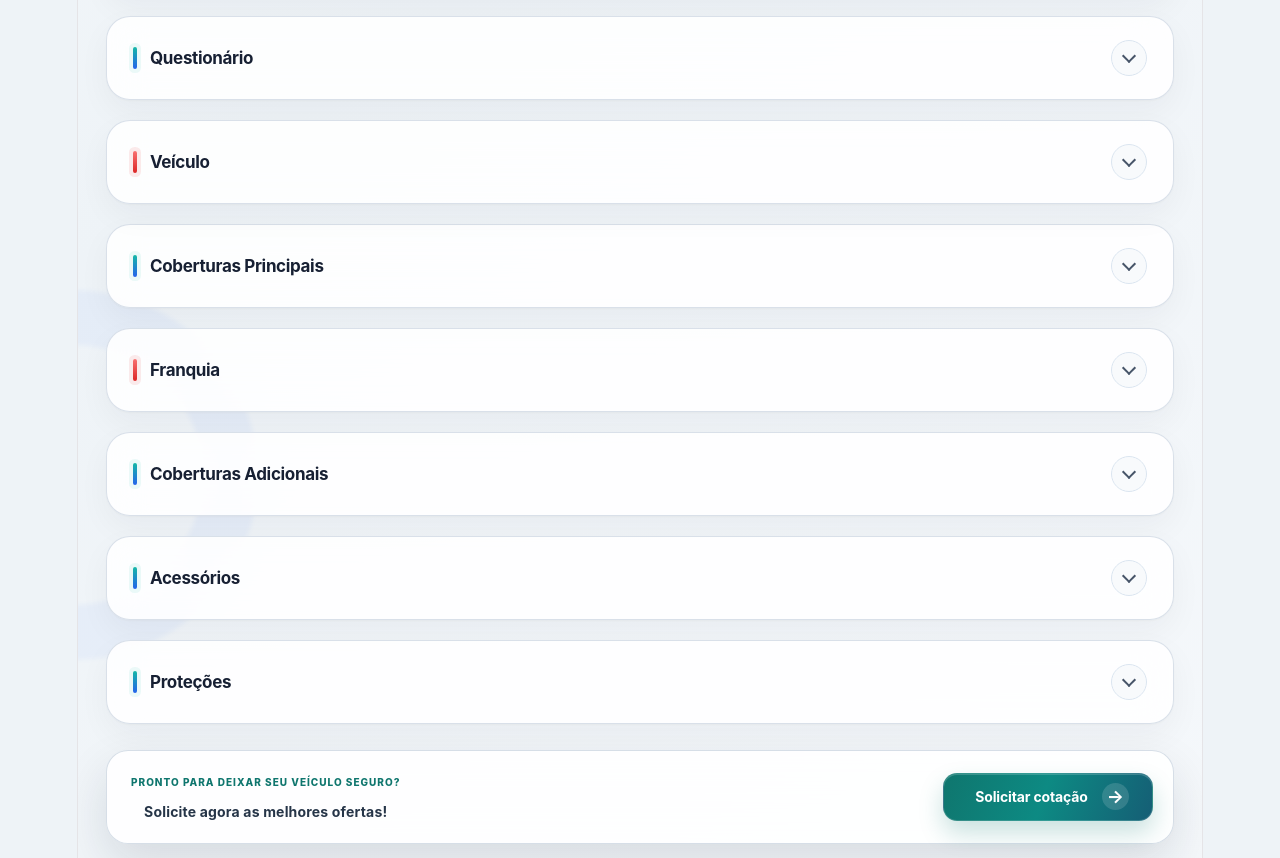
Scenario: NovaCotacao › validates required fields before navigating to the result
(page scrolled)
What coordinates should you click on to do the following:
click the button "Solicitar cotação →"
I would click on:
 (1048, 797)
Its box is [943,773,1153,821].
(page scrolled)
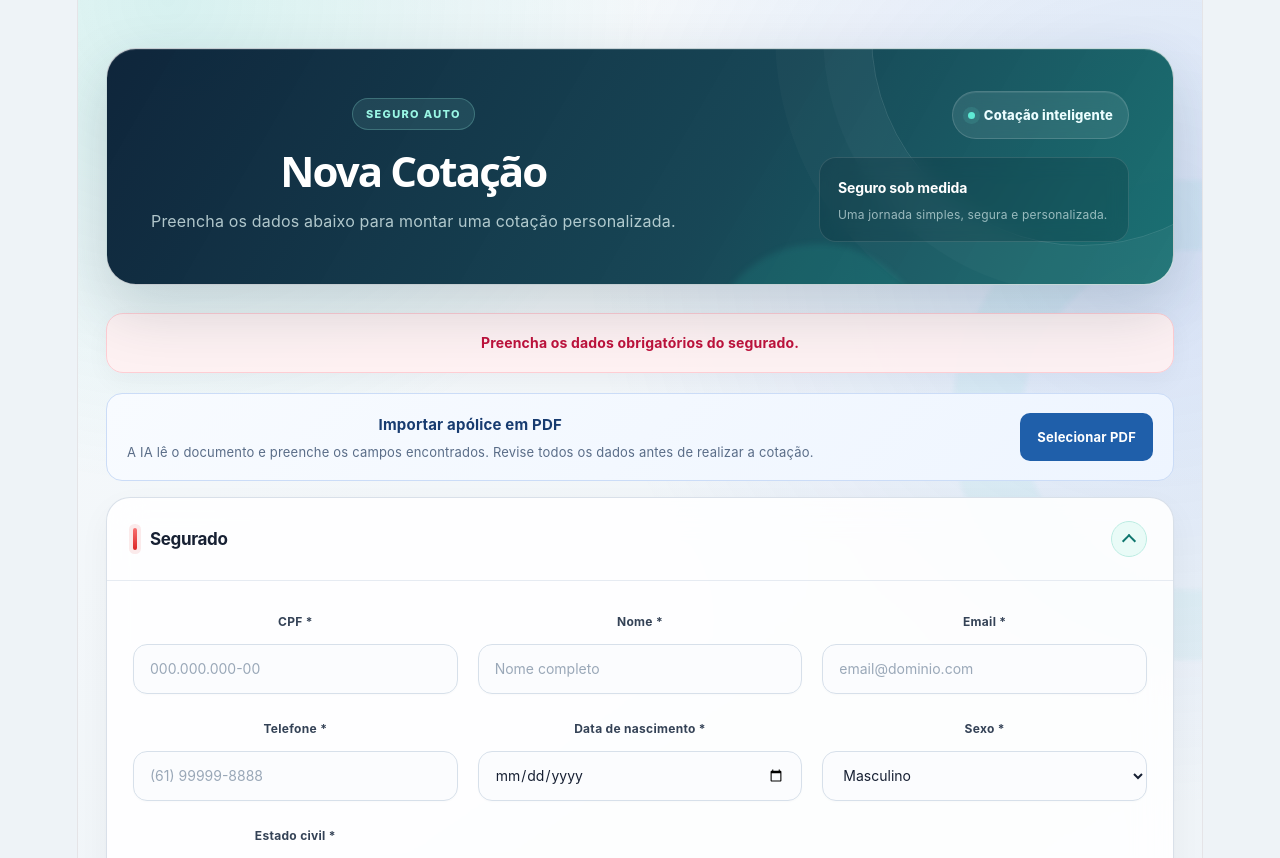
Expected: the text "Preencha os dados obrigatórios do segurado." is shown, [106,313,1174,373]
